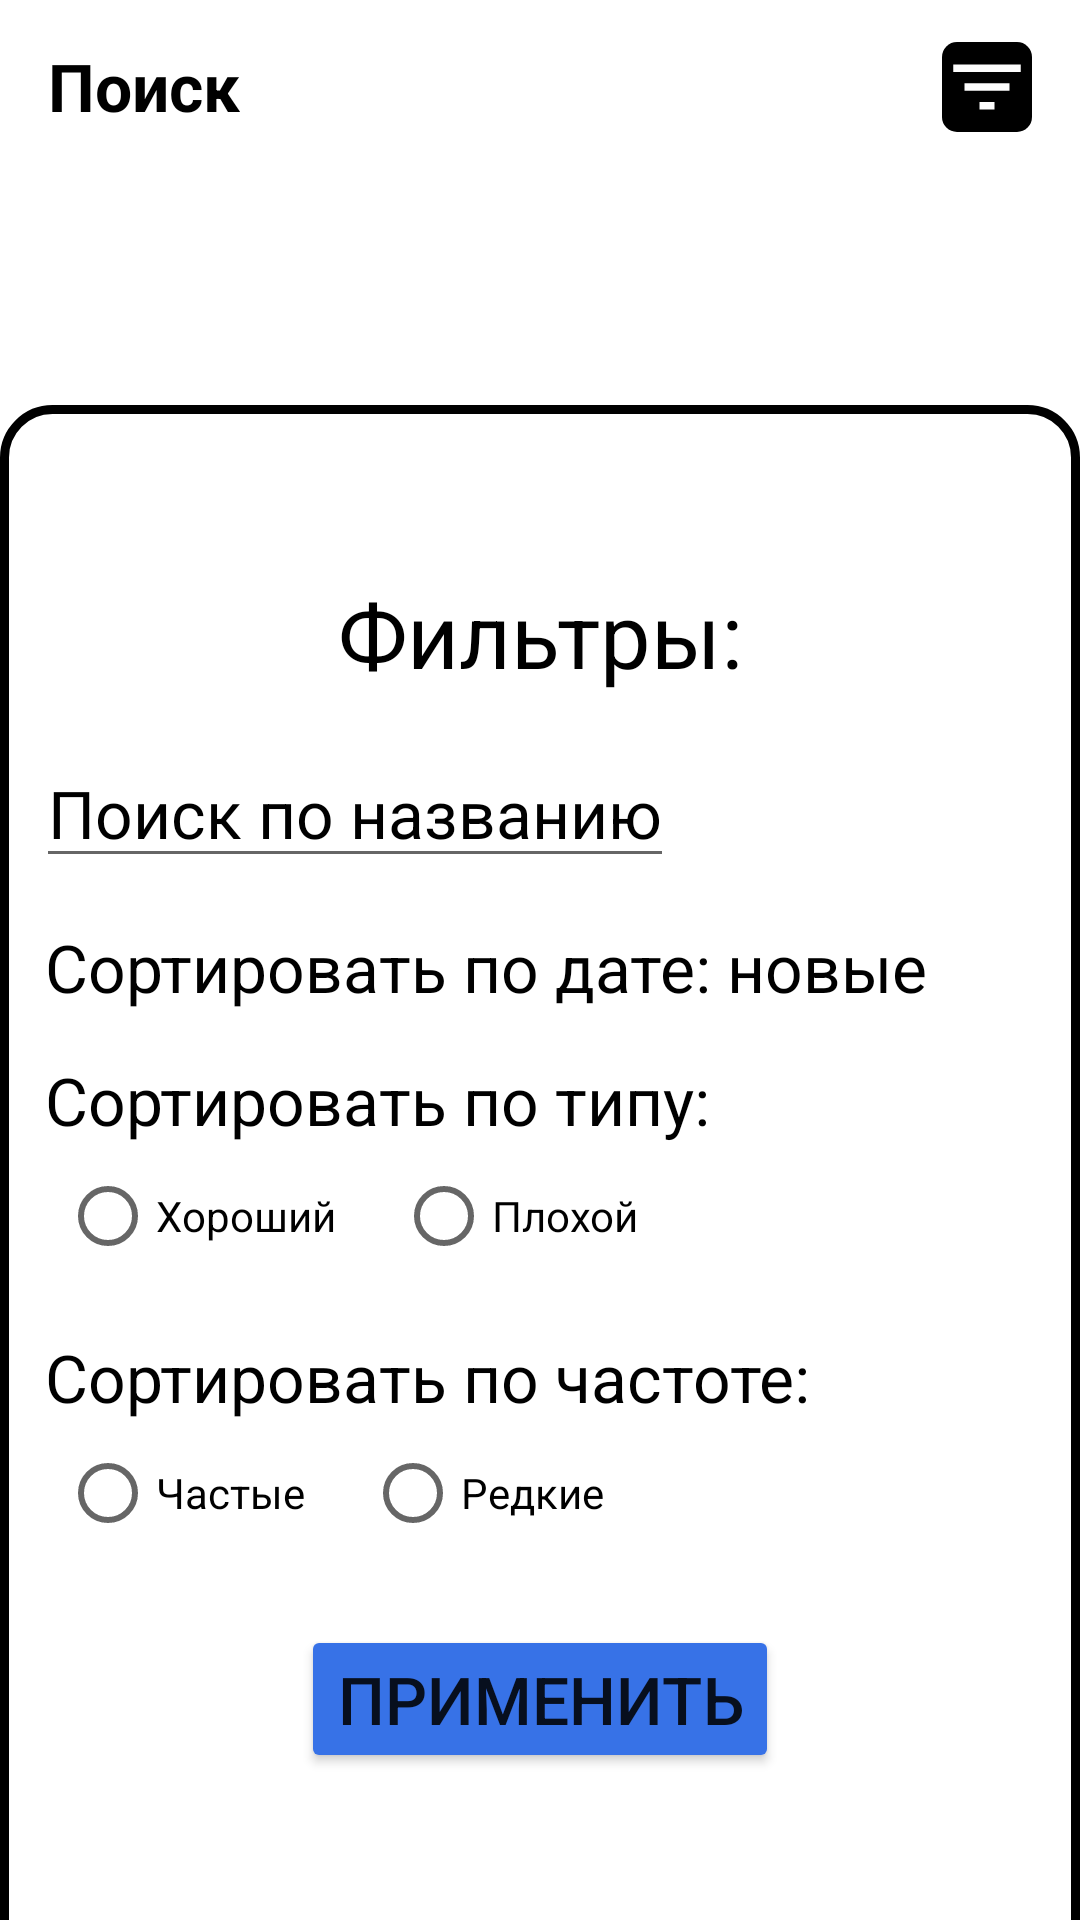

Named icons in this screenshot (1080x1920) and their centers, (x=x, y=y):
filter: (x=987, y=87)
